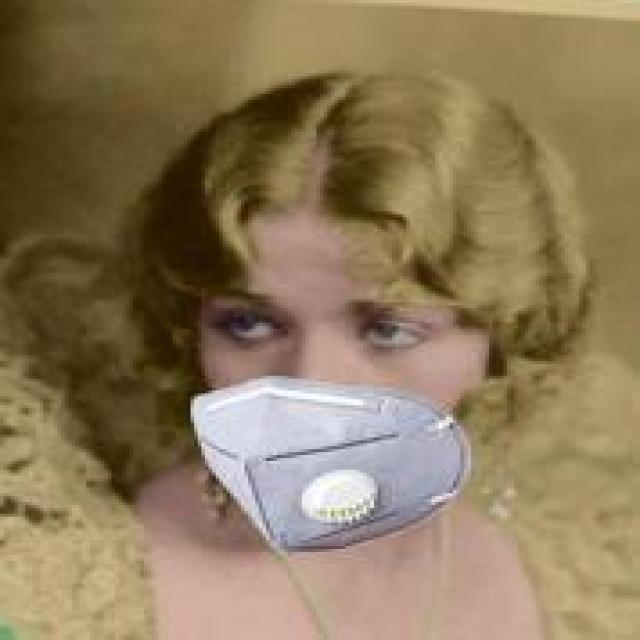mask: (108, 44, 579, 584)
